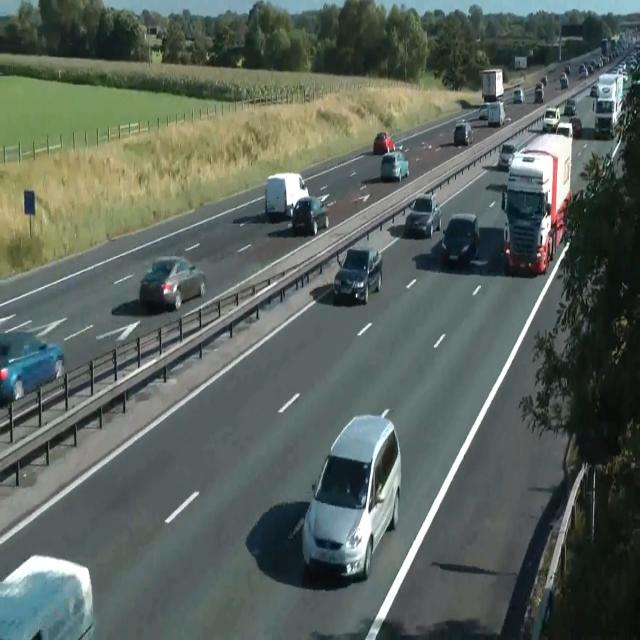bus: (0, 328, 64, 405), (139, 255, 206, 311), (380, 151, 409, 181), (498, 141, 516, 170), (373, 130, 394, 154), (453, 122, 473, 146), (542, 106, 560, 132), (569, 116, 582, 138), (564, 98, 577, 116), (513, 87, 525, 104), (534, 83, 544, 102), (478, 104, 488, 120), (579, 64, 589, 77), (560, 72, 568, 88), (590, 82, 598, 97), (540, 76, 548, 86), (566, 64, 570, 75)
car: (0, 553, 94, 638)
jeep: (301, 409, 401, 581), (333, 246, 383, 304), (441, 212, 479, 266), (405, 191, 441, 238), (291, 194, 329, 236)
minibus: (500, 121, 572, 276), (591, 72, 625, 139), (265, 172, 309, 222), (481, 69, 504, 103), (487, 101, 505, 127), (514, 56, 527, 69)
